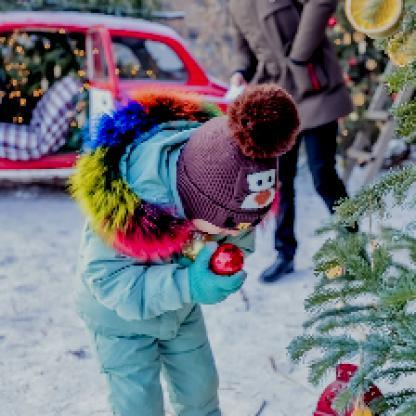child: (66, 83, 302, 416)
